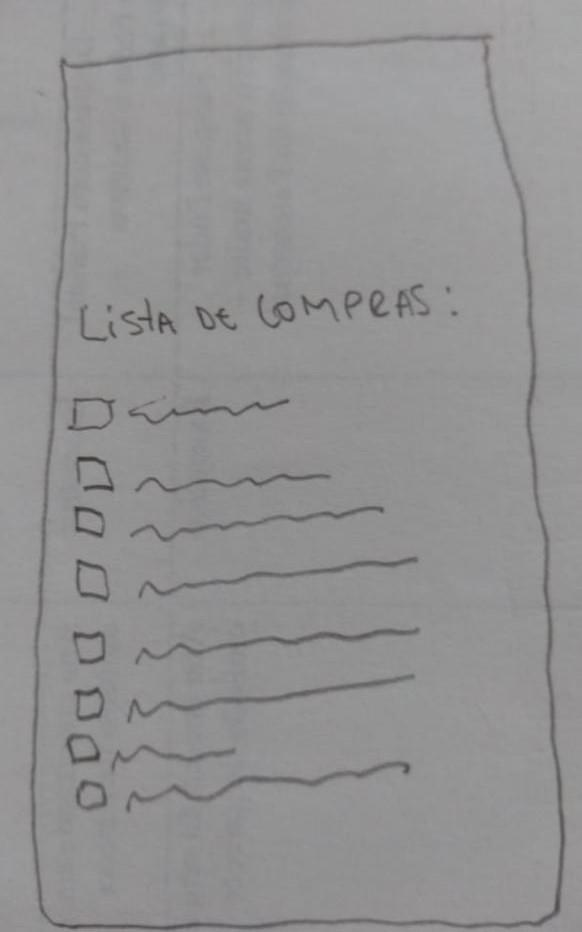CheckBox: (74, 759, 412, 814), (74, 673, 416, 723), (75, 556, 420, 604), (71, 626, 421, 665), (73, 503, 386, 544), (74, 454, 333, 493), (66, 393, 295, 433), (67, 733, 237, 772)
Label: (79, 279, 460, 344)
Screen: (32, 33, 564, 927)
